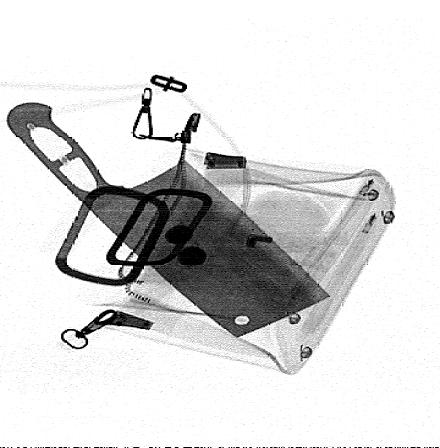Knife: (6, 102, 330, 339)
